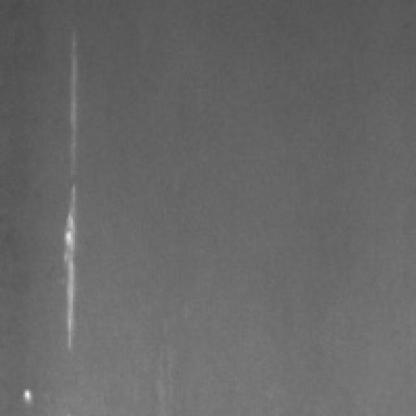scratches: (52, 23, 87, 354), (14, 381, 34, 405)
